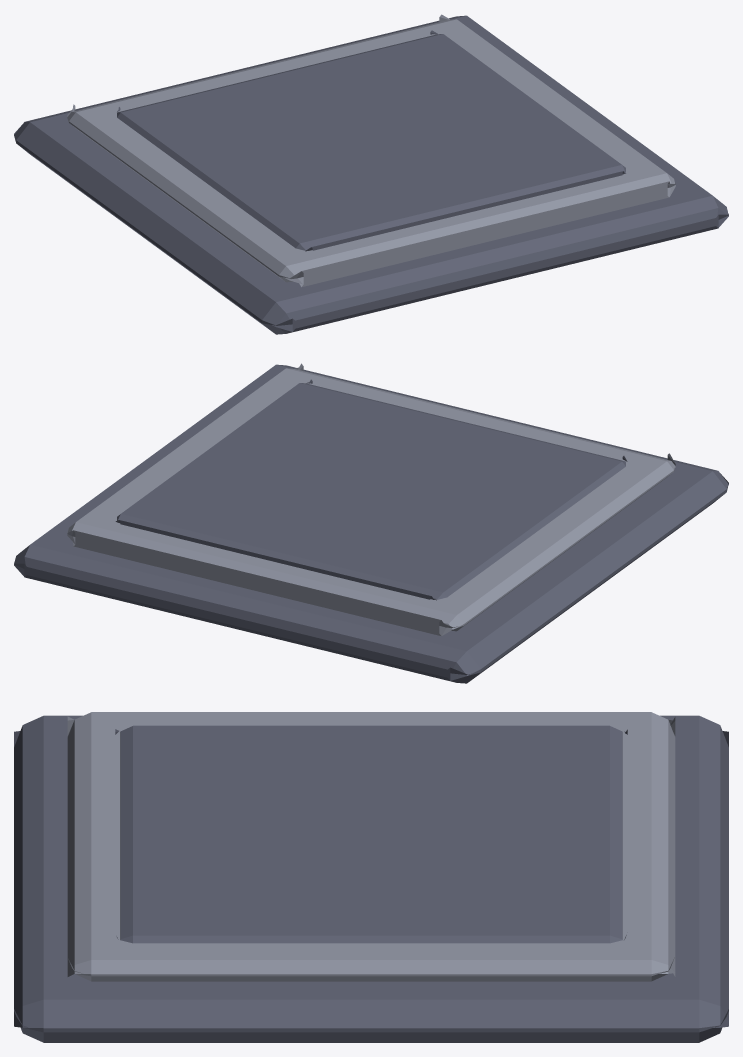
File: game-ui-icon-library-display-plinth-tile-2ae6ccf9__19069.glb
3 renders of one model, top to bottom at view 1: azimuth 30°, elevation 25°; view 2: azimuth 150°, elevation 25°; view 3: azimuth 270°, elevation 25°, orthographic. The views are drawn at different scales.
Visible parts, largest first — view 1: display-plinth-tile; view 2: display-plinth-tile; view 3: display-plinth-tile.
Boxes of the visible parts, <box> form: display-plinth-tile: <box>14,14,728,334</box>; display-plinth-tile: <box>14,363,728,683</box>; display-plinth-tile: <box>14,712,728,1042</box>.
Bounding box in the file's own units: 1.2 × 0.1299 × 1.2.
